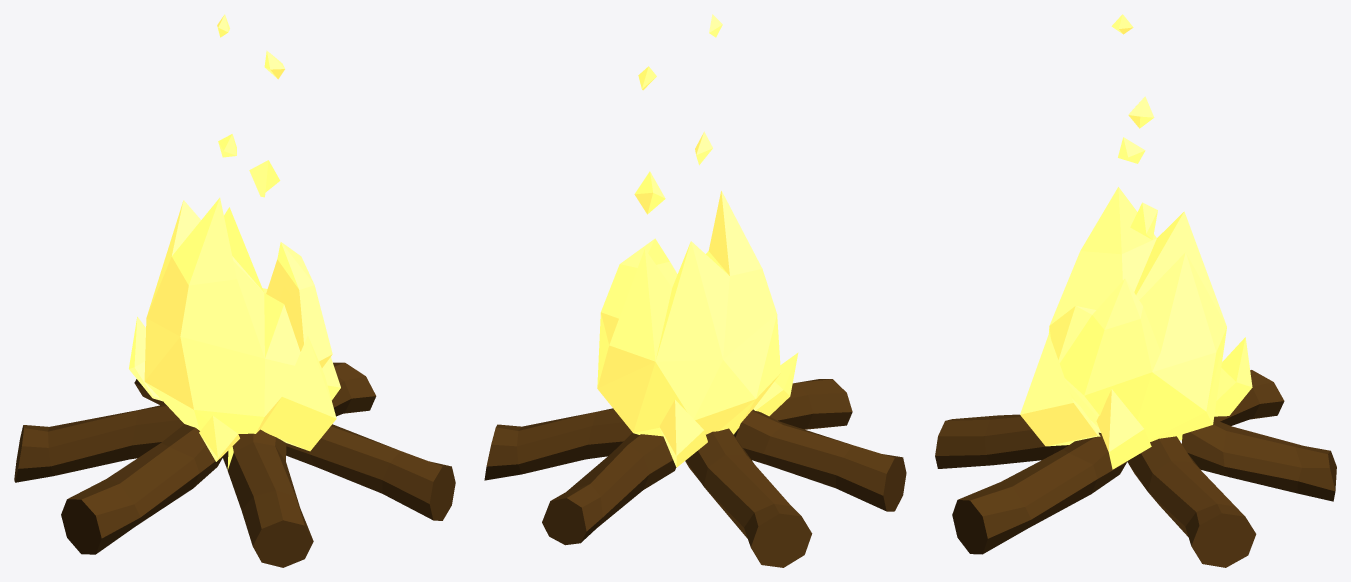
File: campfire.glb
3 views of the same model, side by side, from view 1: azimuth 30°, elevation 25°; view 2: azimuth 150°, elevation 25°; view 3: azimuth 270°, elevation 25° (orthographic). The views are drawn at different scales.
Parts seen in each view (by area): view 1: campfire; view 2: campfire; view 3: campfire.
Part boxes in pixels (bbox=[...]): campfire: bbox=[14, 14, 455, 567]; campfire: bbox=[484, 14, 906, 567]; campfire: bbox=[935, 14, 1336, 567].
Size of the model in its own units: 1 by 1.3 by 1.
Materials: 2 (2 with a texture image).
